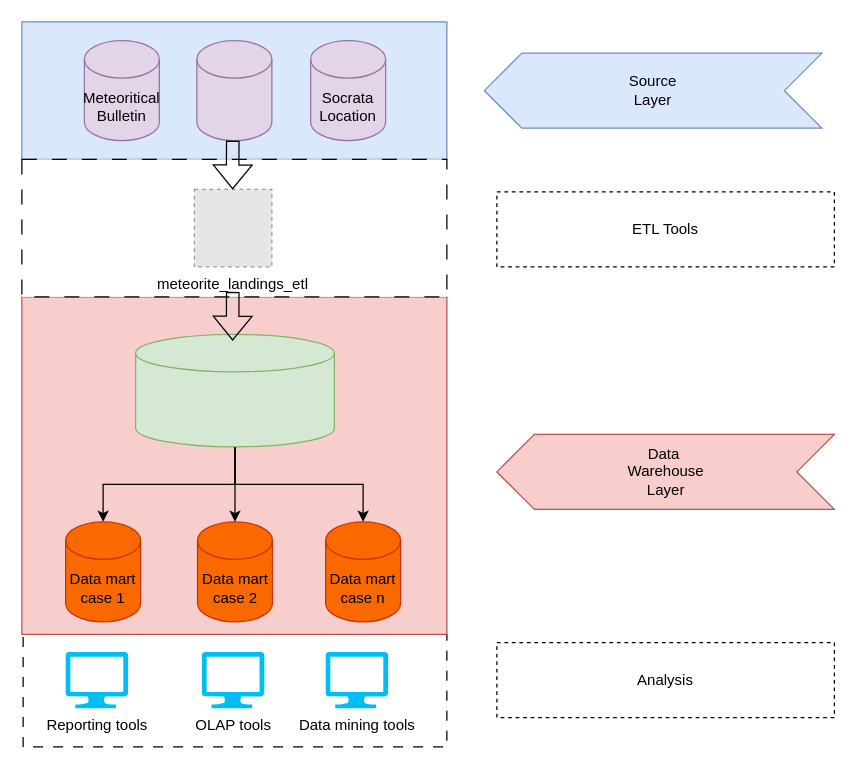
This 856x769 diagram has some shape labels left out. Grey dashed boxes stand in for pictures. The shapes that lost their labels are listed below. From the top down, each one's centre as x and y in pixels, then its label:
At [234,90]: "NASA Meteorite Landings".
At [234,390]: "Primary Data Warehouse".
